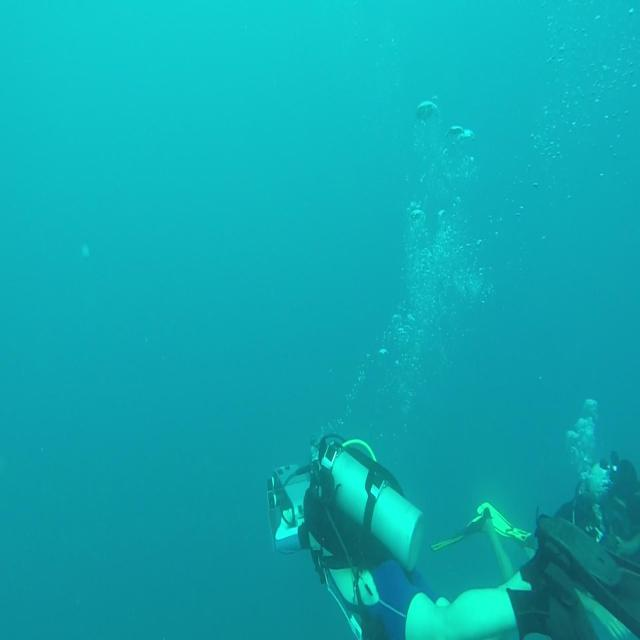human: (267, 431, 639, 638)
